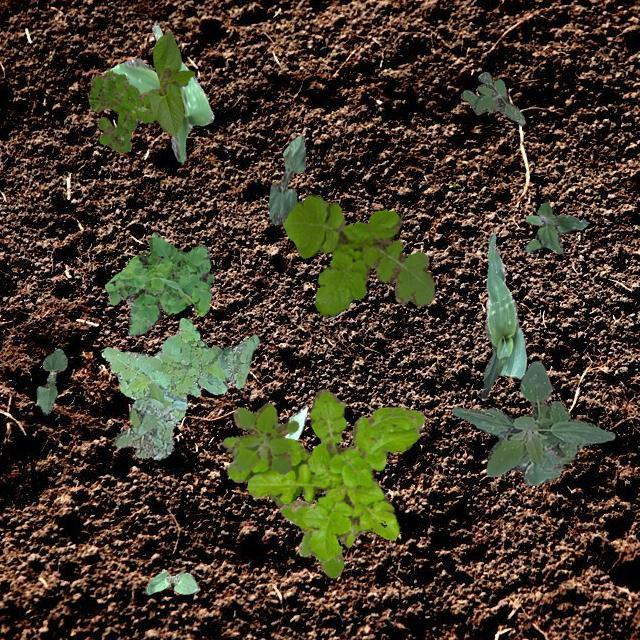crop: (452, 360, 614, 484), (109, 20, 212, 162), (480, 228, 526, 398), (148, 30, 194, 136), (268, 134, 304, 223), (36, 348, 66, 412), (144, 568, 198, 594), (282, 404, 308, 440)
weed: (226, 388, 424, 560), (282, 192, 434, 316), (100, 316, 258, 428), (104, 230, 212, 336), (278, 498, 366, 576), (114, 382, 188, 458), (88, 68, 154, 152), (222, 402, 298, 472), (459, 70, 524, 124), (524, 200, 588, 252), (268, 494, 282, 506)
